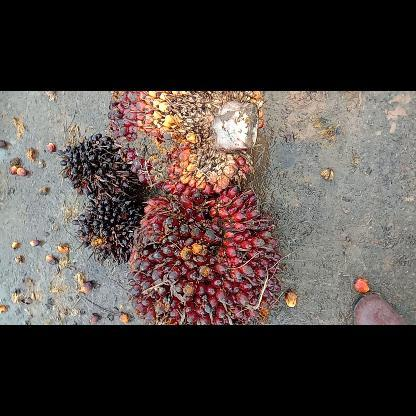TBS abnormal: (54, 130, 148, 198), (69, 192, 144, 264)
TBS masak: (124, 184, 286, 324), (105, 92, 265, 198)
